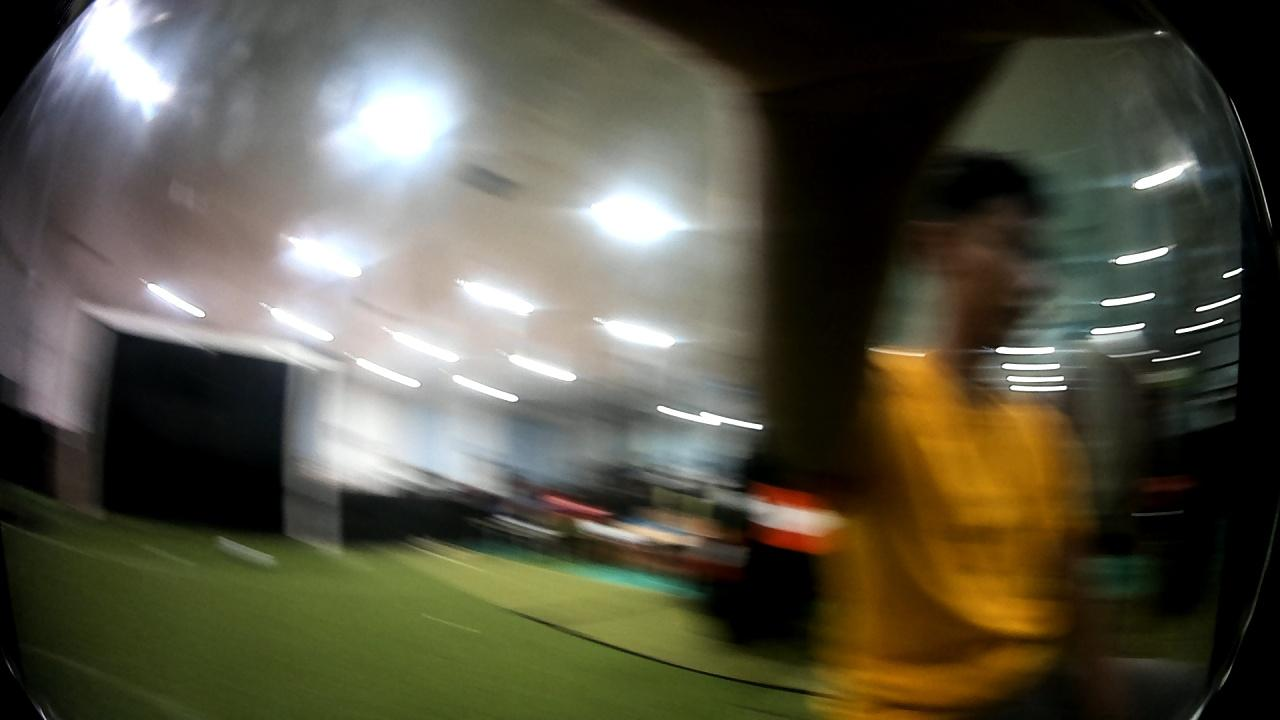ball: (209, 526, 279, 572)
